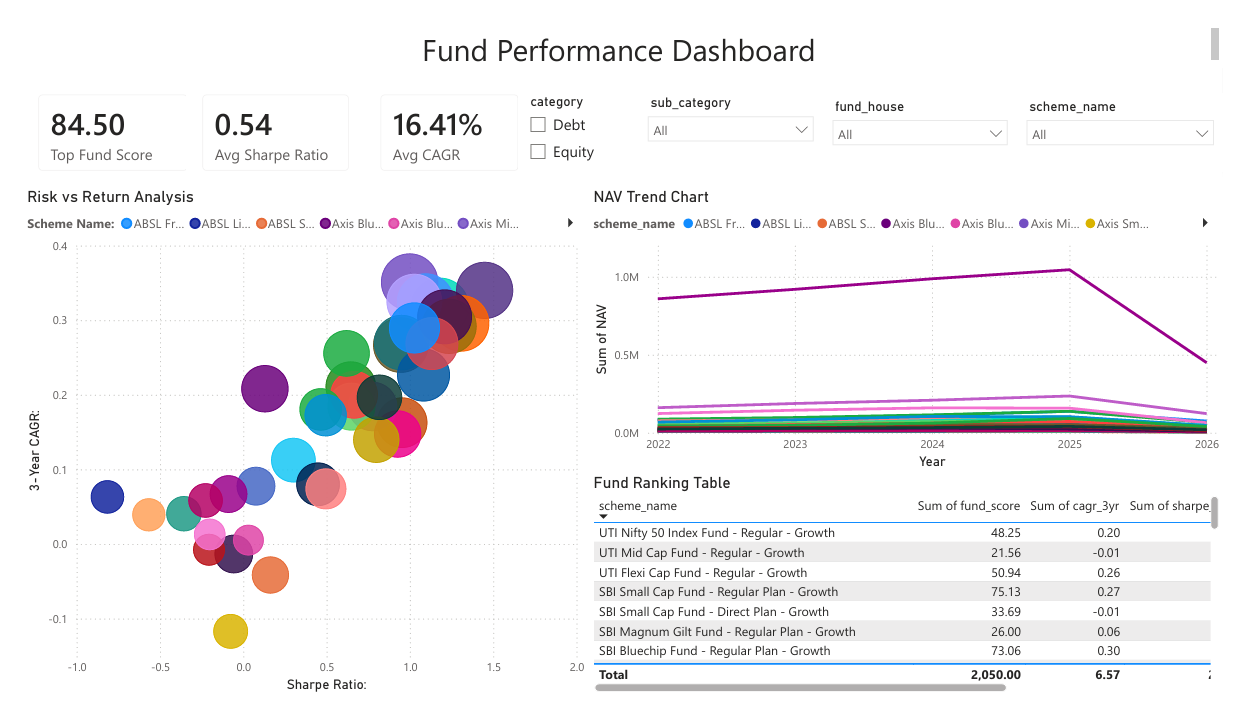

What the dashboard file says about the page in this screenshot:
{"tool":"powerbi","page":{"name":"Fund Performance Dashboard","canvas":[1280,720],"ordinal":1},"visuals":[{"type":"scatterChart","title":"Risk vs Return Analysis","fields":{"X":["sharpe_values.sharpe_ratio"],"Y":["cagr_report.cagr_3yr"],"Size":["Max(fund_scorecard.fund_score)"],"Series":["01_fund_master.scheme_name"]},"box":[0,174.6,604.5,544.8],"z":0},{"type":"tableEx","title":"Fund Ranking Table","fields":{"Values":["01_fund_master.scheme_name","Sum(fund_scorecard.fund_score)","Sum(cagr_report.cagr_3yr)","Sum(fund_scorecard.sharpe_ratio)","Sum(max_drawdown.max_drawdown)","Sum(tracking_error.tracking_error)"]},"box":[604.5,480.6,676.1,238.8],"z":1000},{"type":"cardVisual","title":"Top Fund Score","fields":{"Data":["Max(fund_scorecard.fund_score)"]},"box":[0,59.7,192.5,114.9],"z":2000},{"type":"cardVisual","fields":{"Data":["Avg(sharpe_values.sharpe_ratio)"]},"box":[175,59.6,190.4,115.4],"z":3000},{"type":"cardVisual","fields":{"Data":["Avg(fund_scorecard.cagr_3yr)"]},"box":[365.4,59.6,180.8,115.4],"z":4000},{"type":"lineChart","title":"NAV Trend Chart","fields":{"Category":["nav_history_clean.date.Variation.Date Hierarchy.Year","nav_history_clean.date.Variation.Date Hierarchy.Quarter","nav_history_clean.date.Variation.Date Hierarchy.Month","nav_history_clean.date.Variation.Date Hierarchy.Day"],"Y":["Sum(nav_history_clean.nav)"],"Series":["01_fund_master.scheme_name"]},"box":[604.5,174.6,676.1,306],"z":5000},{"type":"slicer","fields":{"Values":["01_fund_master.scheme_name"]},"box":[1061.2,76.1,219.4,83.6],"z":6000},{"type":"slicer","fields":{"Values":["01_fund_master.category"]},"box":[528.8,71.2,126.9,103.8],"z":7000},{"type":"slicer","fields":{"Values":["01_fund_master.fund_house"]},"box":[853.7,76.1,207.5,83.6],"z":8000},{"type":"slicer","fields":{"Values":["01_fund_master.sub_category"]},"box":[656.7,71.6,197,67.2],"z":9000},{"type":"textbox","box":[0,1.5,1280.6,47.8],"z":10000}]}

Visuals, with their boxes in screenshot pixels (x1, y1, x2, y2), scaled from the page's 1280x720 canvas onto the 1242x717 screenshot:
"Risk vs Return Analysis" scatterChart: 0,174,587,716
"Fund Ranking Table" tableEx: 587,479,1241,716
"Top Fund Score" cardVisual: 0,59,187,174
cardVisual - Avg(sharpe_values.sharpe_ratio): 170,59,355,174
cardVisual - Avg(fund_scorecard.cagr_3yr): 355,59,530,174
"NAV Trend Chart" lineChart: 587,174,1241,479
slicer - 01_fund_master.scheme_name: 1030,76,1241,159
slicer - 01_fund_master.category: 513,71,636,174
slicer - 01_fund_master.fund_house: 828,76,1030,159
slicer - 01_fund_master.sub_category: 637,71,828,138
textbox: 0,1,1241,49
